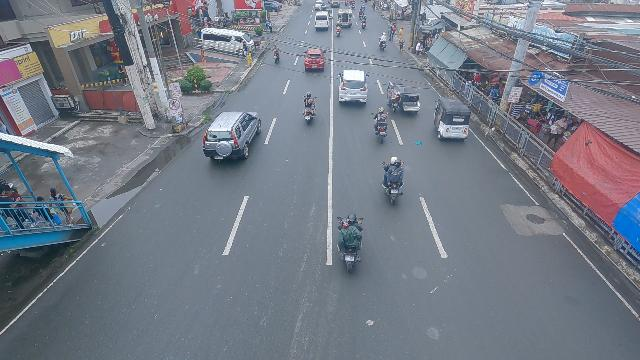car: (201, 110, 263, 163), (336, 70, 370, 106), (303, 49, 326, 73), (314, 0, 324, 10), (329, 0, 340, 8)
jeepney: (337, 8, 353, 29)
motorcycle: (335, 213, 364, 275), (382, 156, 404, 205), (371, 106, 389, 144), (301, 92, 317, 126), (272, 43, 281, 64), (378, 32, 387, 51), (335, 21, 342, 37), (361, 14, 367, 29), (359, 8, 365, 18), (361, 3, 366, 13), (350, 0, 355, 9), (345, 0, 349, 6)
van: (314, 11, 329, 32)
